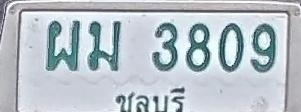0: (218, 22, 244, 72)
3: (152, 22, 178, 72)
8: (186, 22, 210, 72)
9: (250, 22, 276, 72)
A28: (46, 19, 81, 71)
A33: (87, 20, 121, 71)
CBI: (106, 79, 190, 112)
